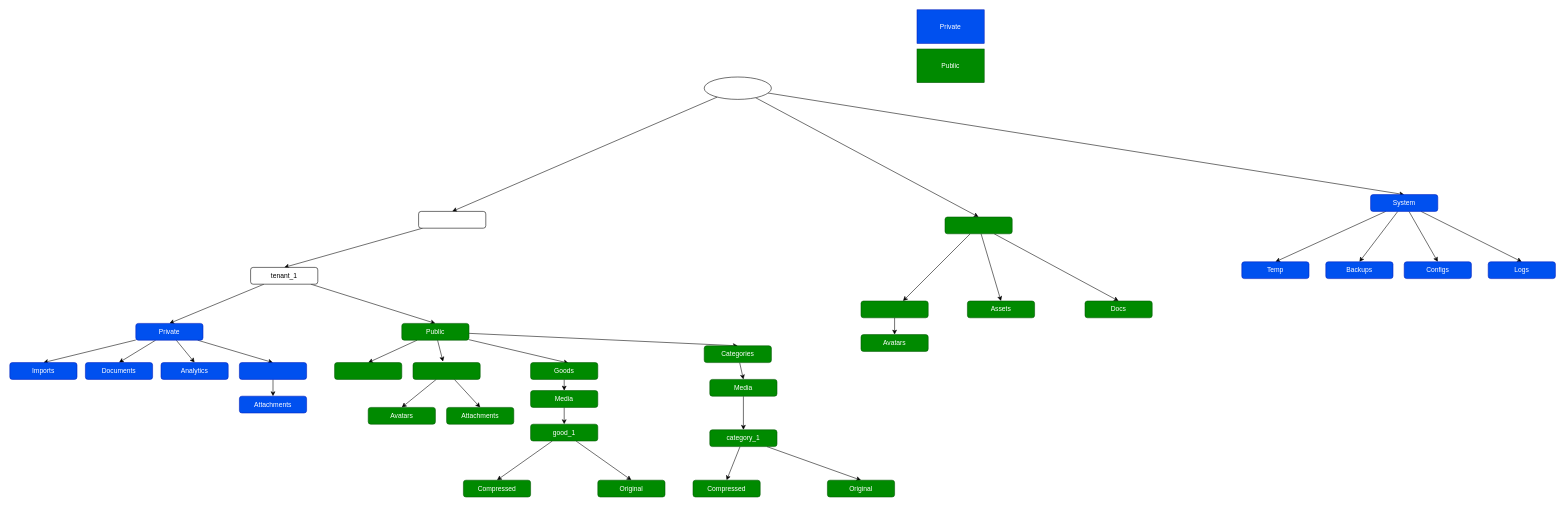
Image size: 1565x507. Some labels were removed from this diagram. The box of each missing label's shape, as (x1, y1, x2, y2) in pixels:
Customers: (412, 362, 480, 379)
Employees: (860, 300, 928, 318)
Exports: (334, 362, 402, 379)
Messages: (239, 362, 307, 379)
S3 bucket structure: (704, 76, 771, 99)
Shared: (944, 216, 1012, 234)
Tenants: (418, 211, 486, 228)
